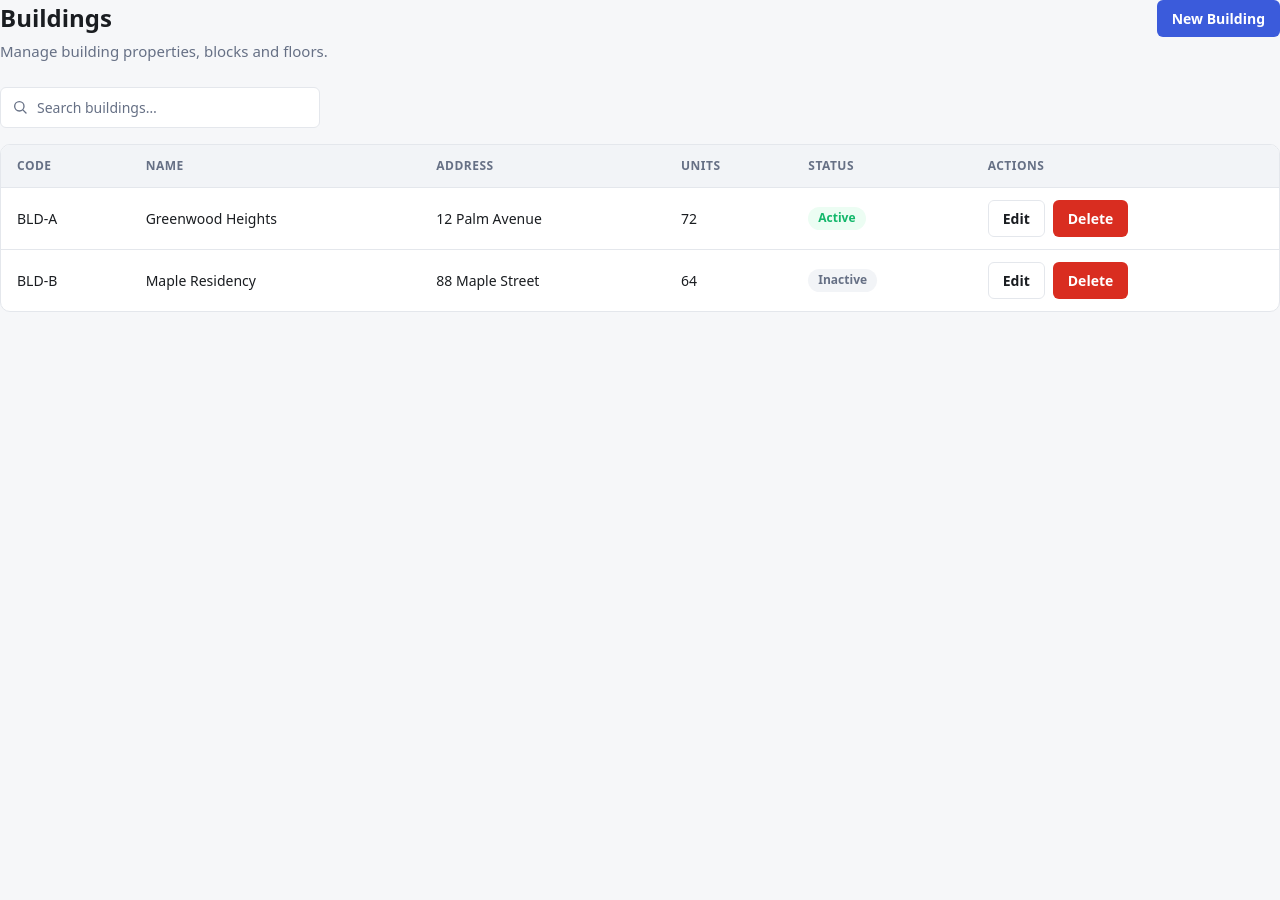
BuildingsPage CRUD functionality › shows required Code validation before creating
Expected: the text "Greenwood Heights" is shown, [130,187,420,249]
Click the button "New Building" at (1218, 18), box [1157,0,1279,37]
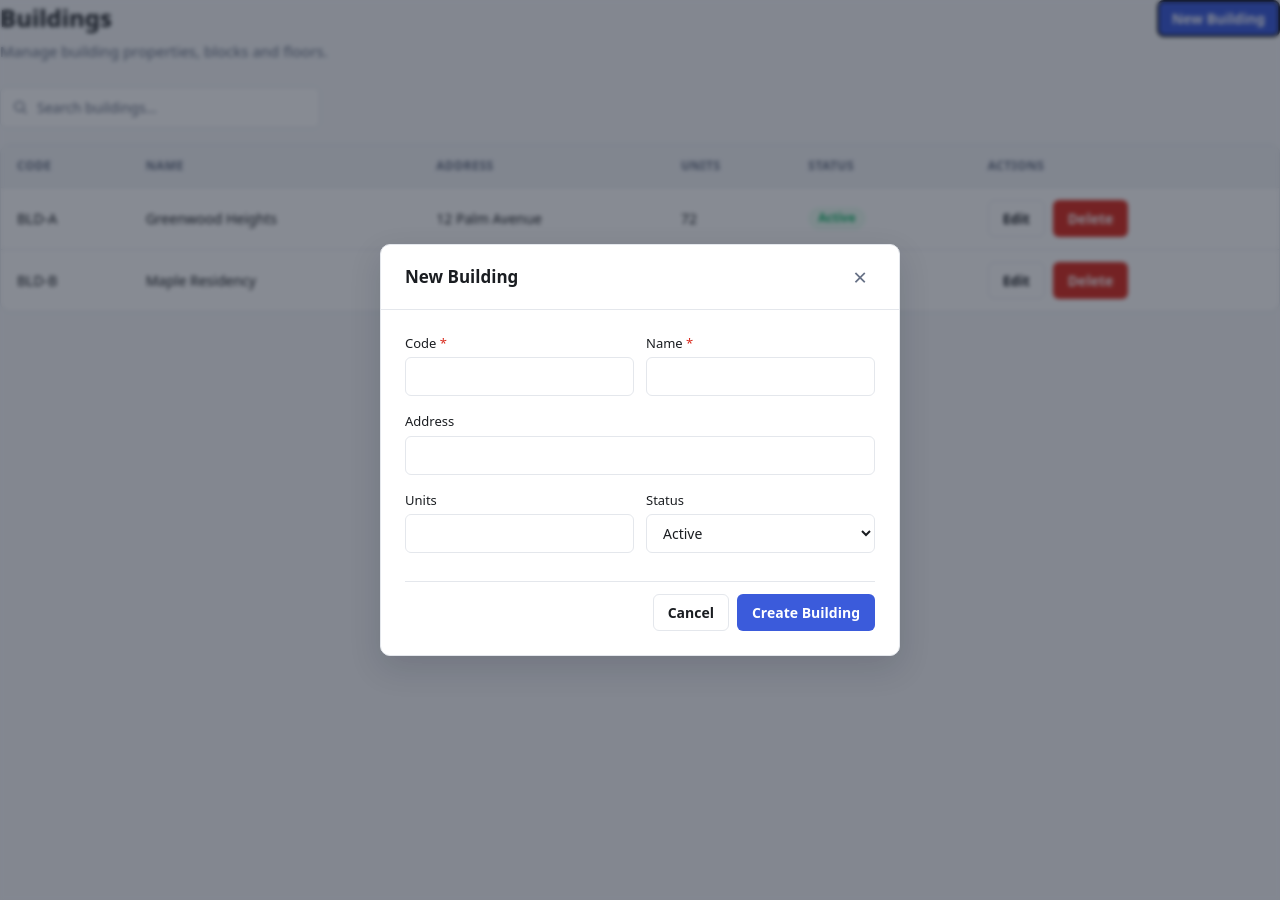
Type "New Building" into the field labelled "Name *" at (760, 377), box [646,357,875,396]
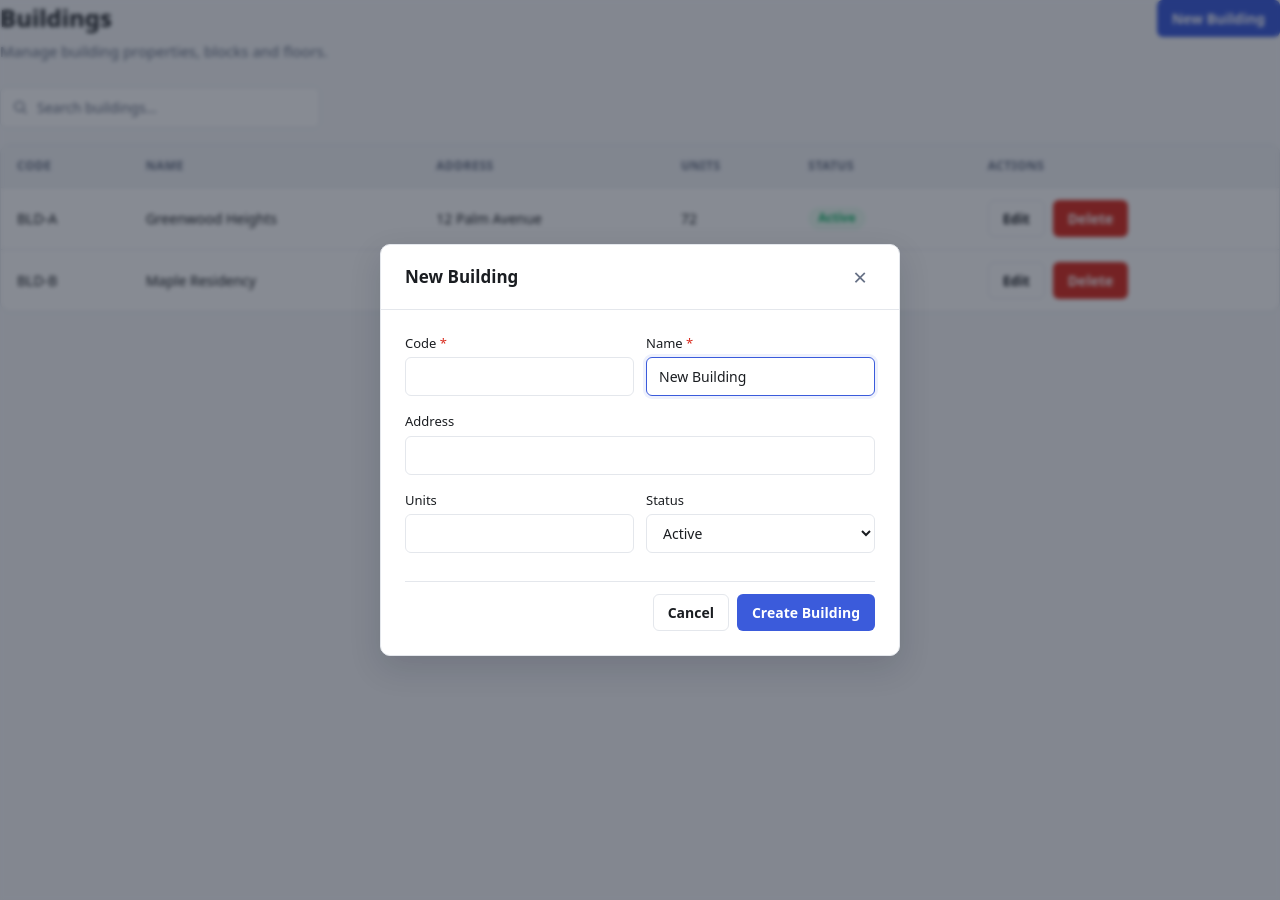
Click the button "Create Building" at (806, 613), box [737,594,875,631]
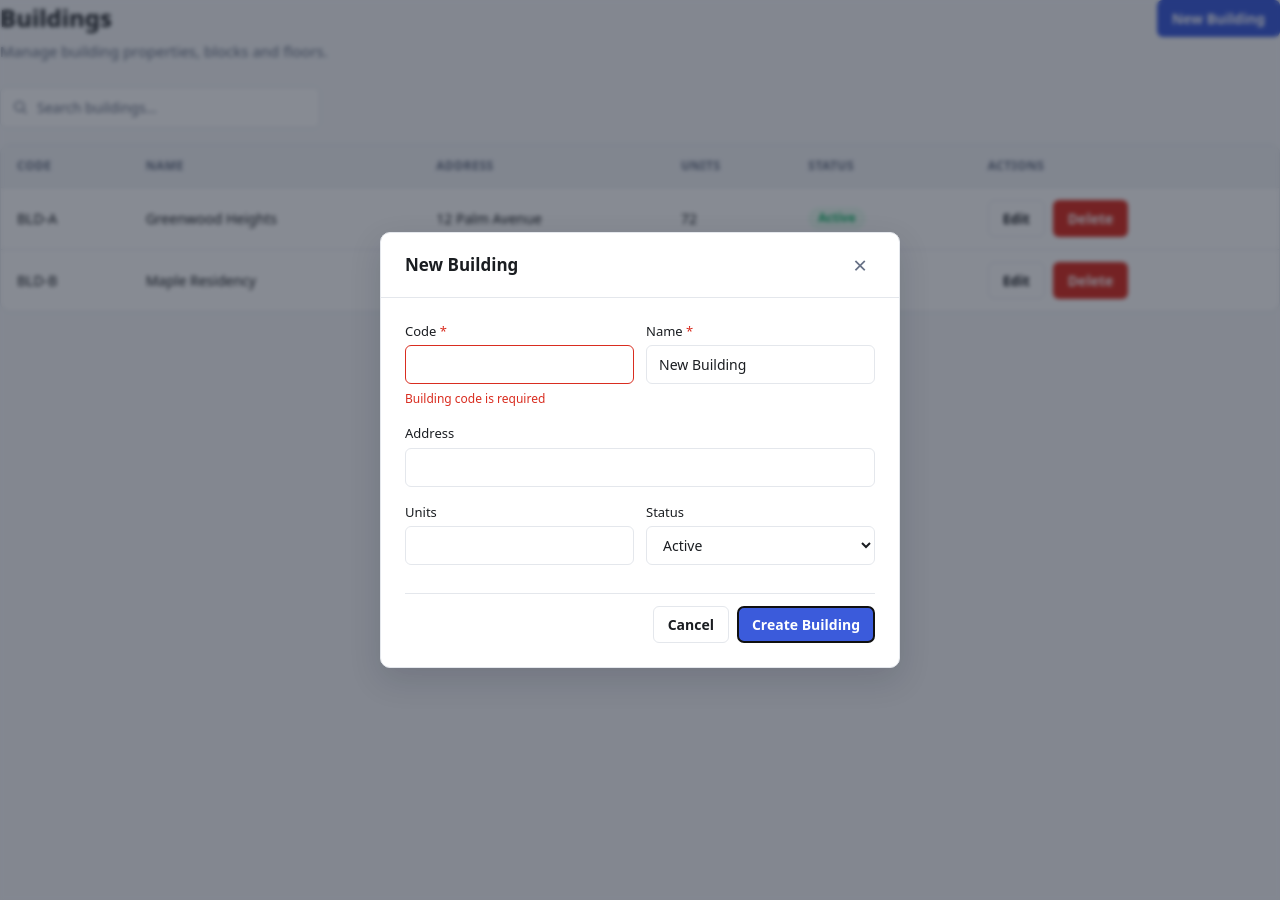
Result: the text "Building code is required" is shown at [405,390,545,407]
